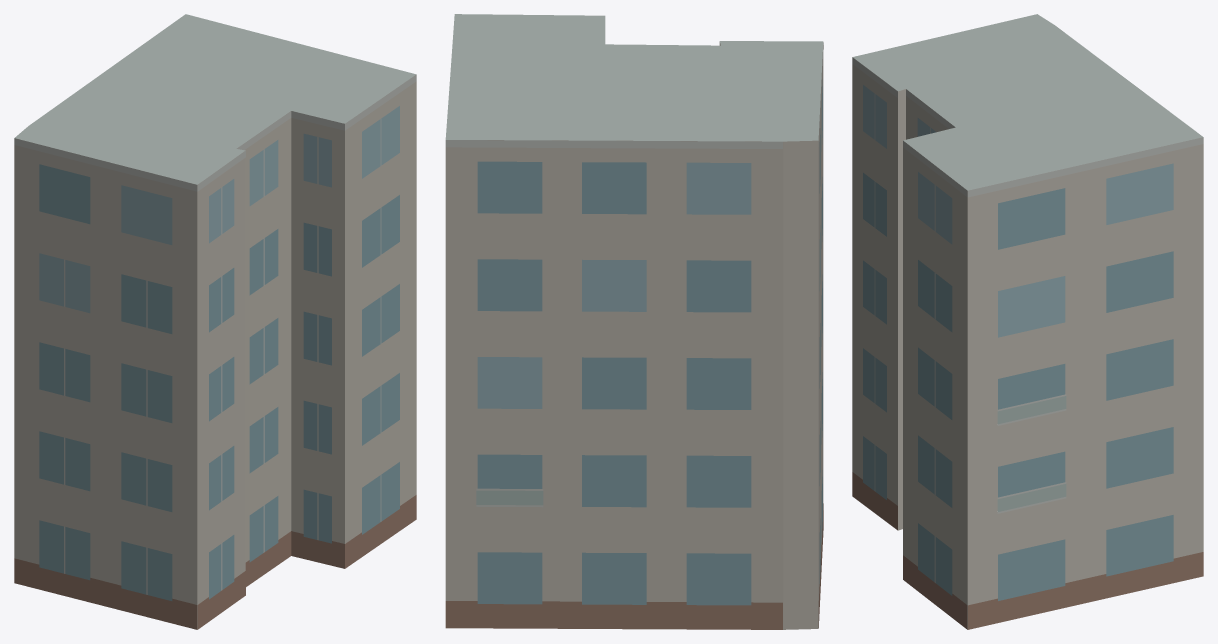
Rendered from survey-upis-32995405.glb.
3 renders of one model, left to right at view 1: azimuth 30°, elevation 25°; view 2: azimuth 150°, elevation 25°; view 3: azimuth 270°, elevation 25°, orthographic. The views are drawn at different scales.
Parts seen in each view (by area): view 1: survey-upis-32995405.tmp; view 2: survey-upis-32995405.tmp; view 3: survey-upis-32995405.tmp.
Part boxes in pixels (x1,y1,x2,y2): survey-upis-32995405.tmp: (14, 14, 416, 629); survey-upis-32995405.tmp: (445, 14, 823, 629); survey-upis-32995405.tmp: (852, 14, 1203, 629).
Size of the model in its own units: 13.56 by 15.7 by 11.39.
